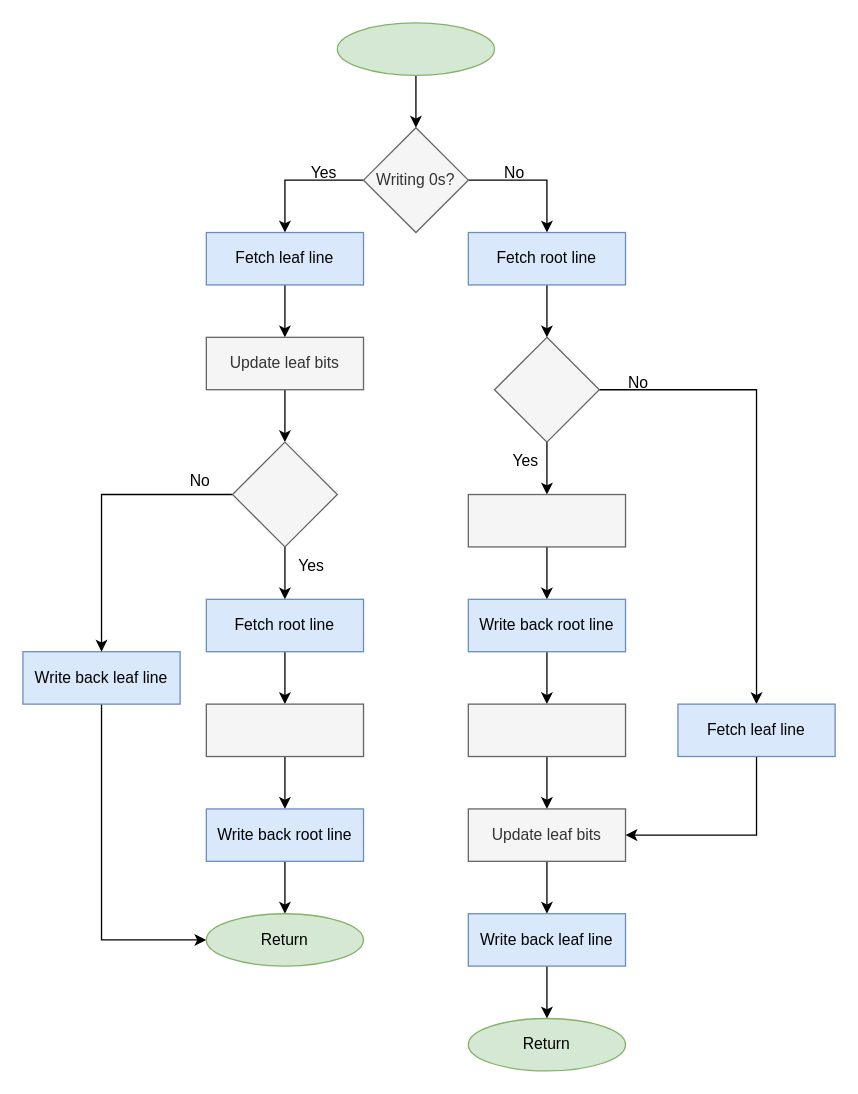
Some shapes in this 858 by 1094 pixel diagram are drawn without their labels. The shapes that lost their labels are listed below. From the top down, each one's centre as x and y in pixels, then its label:
At (x=415, y=48): "On Read".
At (x=546, y=389): "Root bit 0?".
At (x=284, y=494): "Entire leaf line 0s?".
At (x=546, y=520): "Set root bit".
At (x=284, y=730): "Clear root bit".
At (x=546, y=730): "Generate new leaf line full of 0s".
